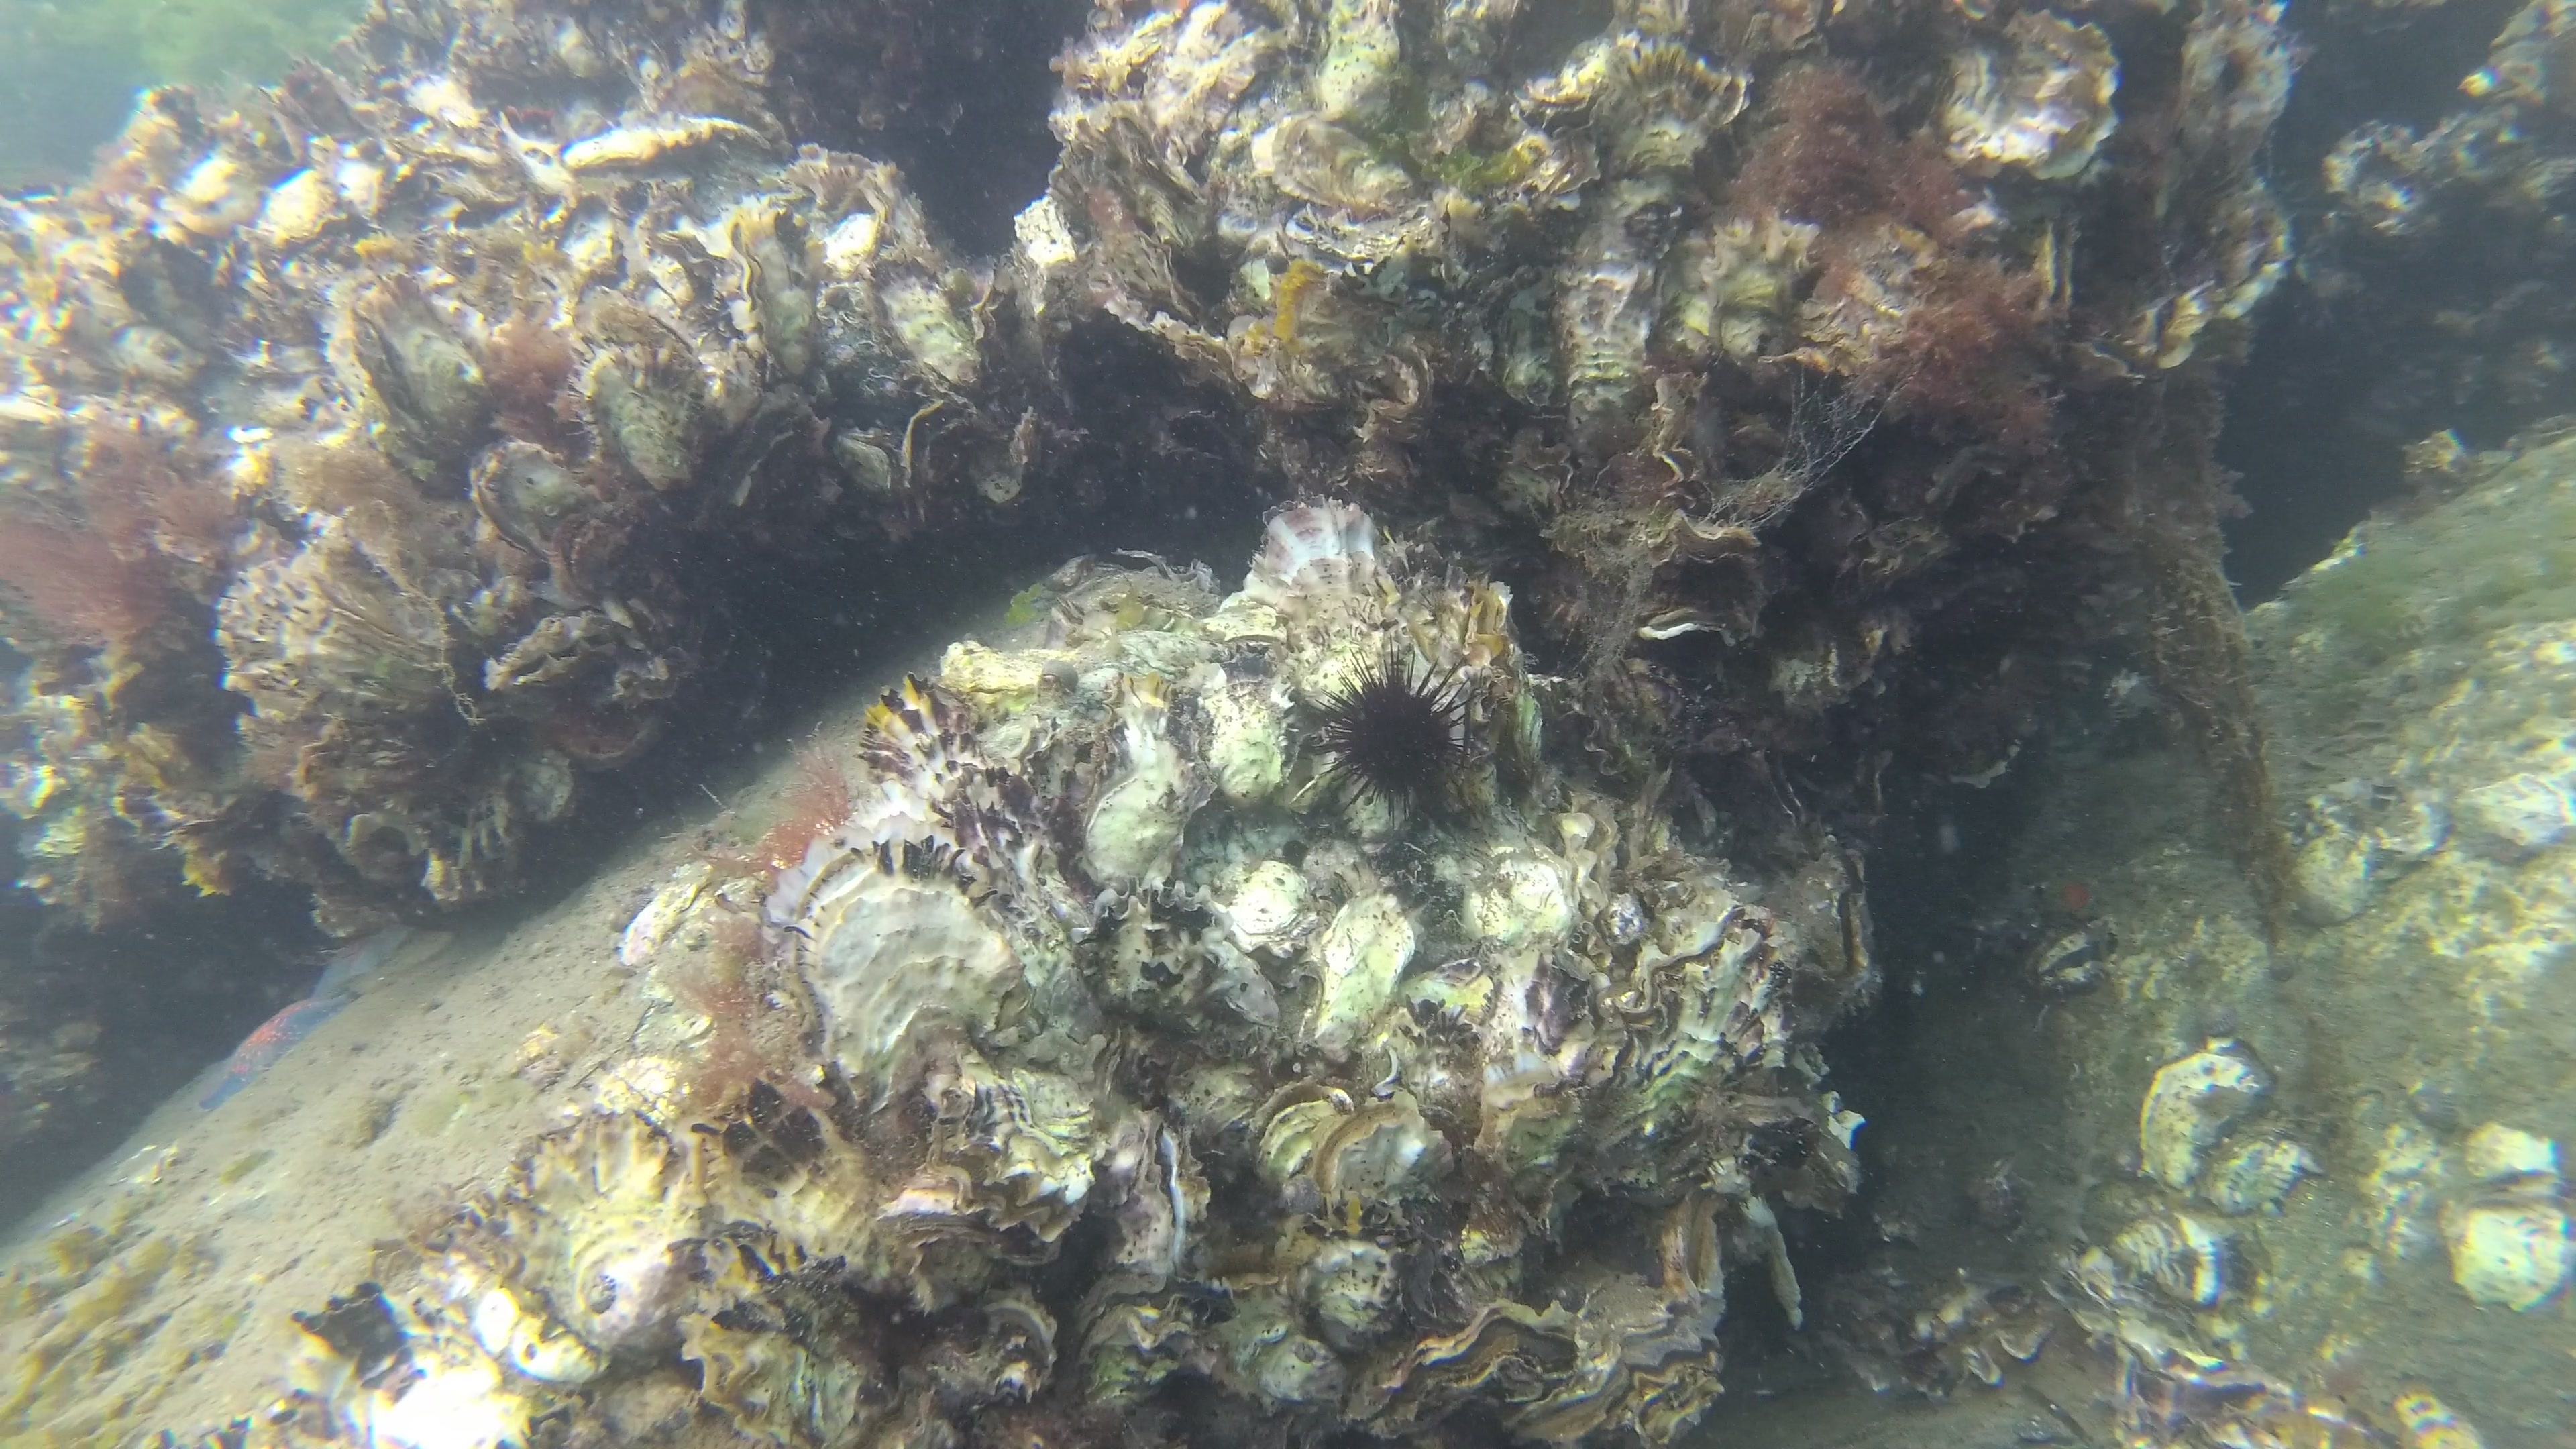echinus: (1313, 640, 1488, 816)
starfish: (209, 994, 341, 1113), (311, 931, 414, 1003)
